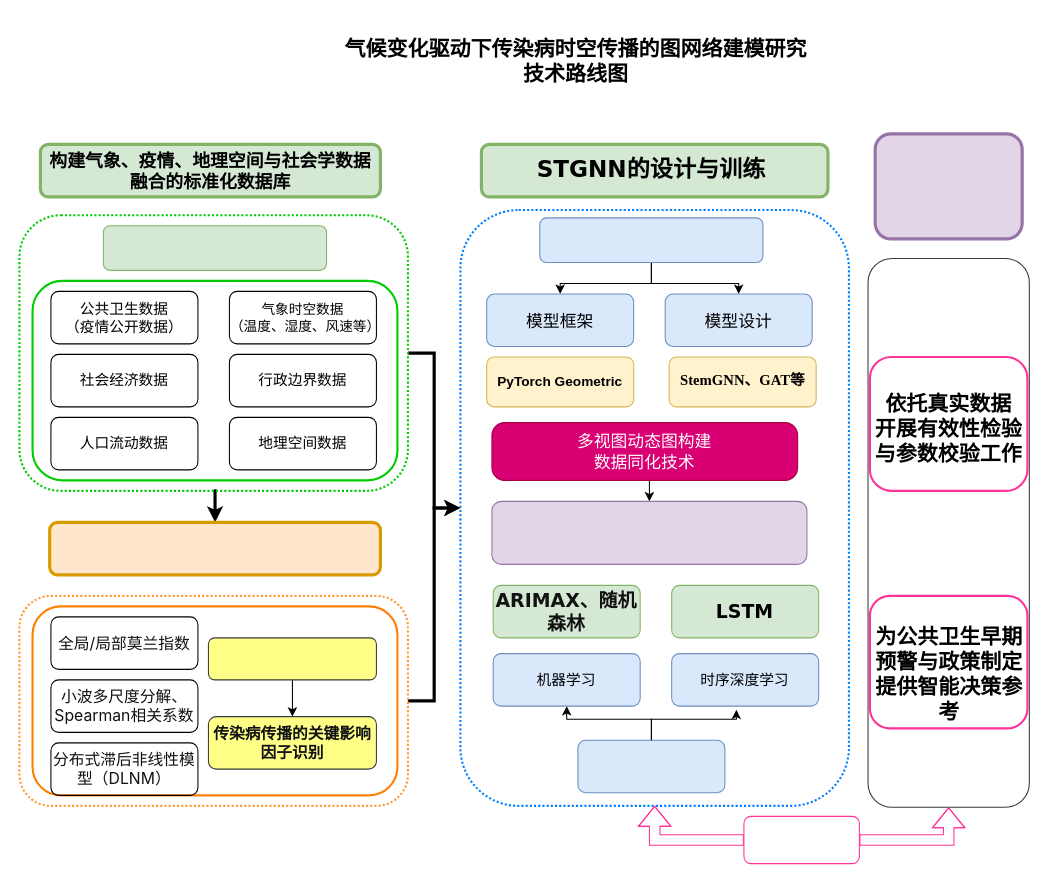
This 1048x882 diagram has some shape labels left out. The centre of each missing label's shape, as x and y in pixels:
分析和归纳疫病时空传播 动态演变影响因素与规律: point 214,548
区域内传染病时空传播特征的描述性分析: point 291,658
基线模型: point 651,766
多源异构数据: point 214,247
开展地域多季节的疫情动态演变预警: point 948,186
时空图神经网络: point 651,239
模型评估与比较 （MAE/RMSE/R²指标）: point 649,532
相互验证: point 801,839
